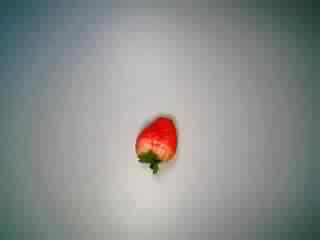strawberry: (119, 110, 187, 174)
